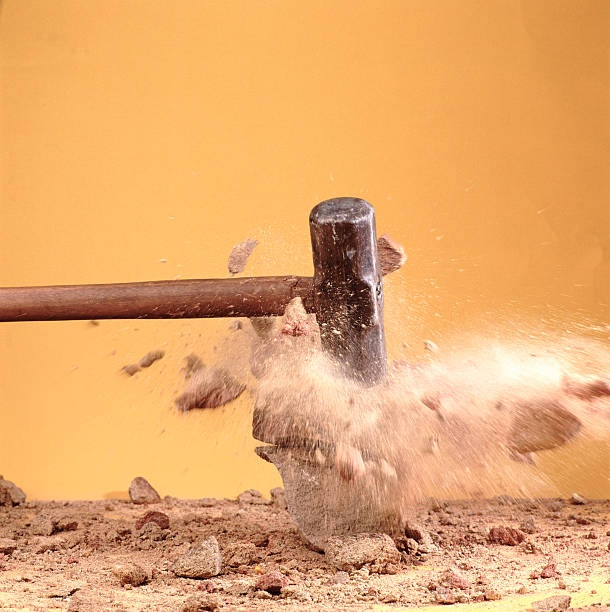hammer: (6, 194, 390, 385)
